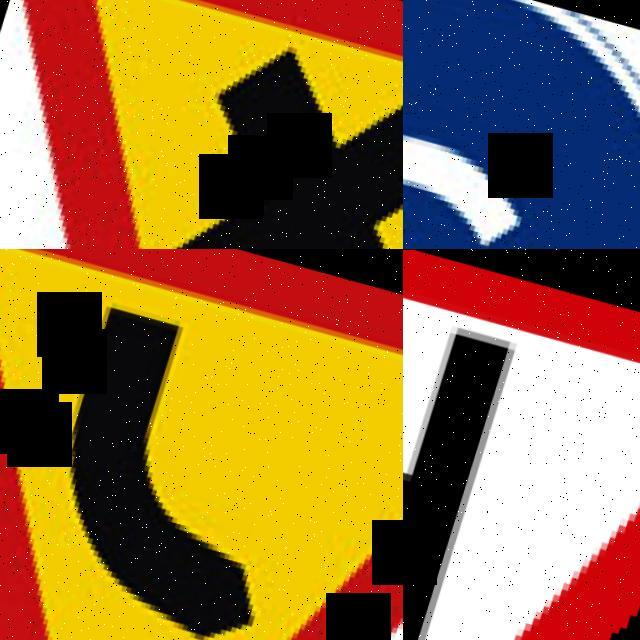137: (0, 249, 403, 640)
16: (403, 0, 640, 249)
Crossroad intersection: (0, 0, 403, 249)
Roundabout: (403, 0, 640, 249)
Side road junction: (403, 249, 640, 640)
